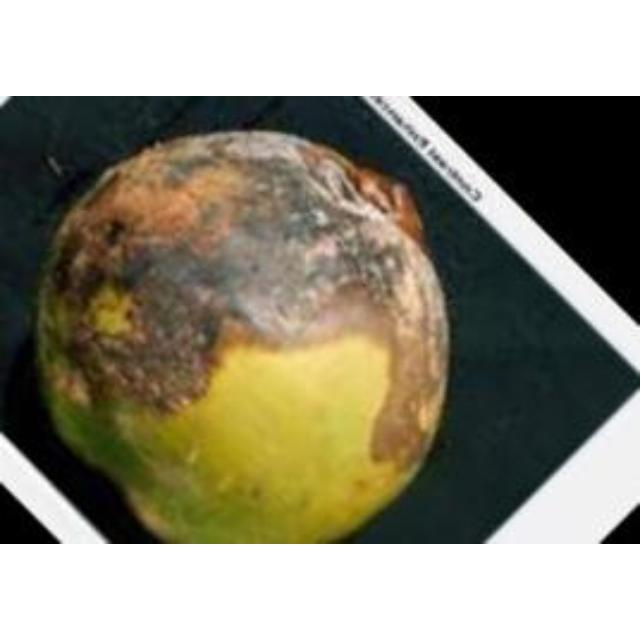damaged: (36, 129, 447, 543)
